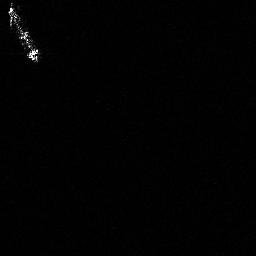ship: (6, 2, 44, 64)
